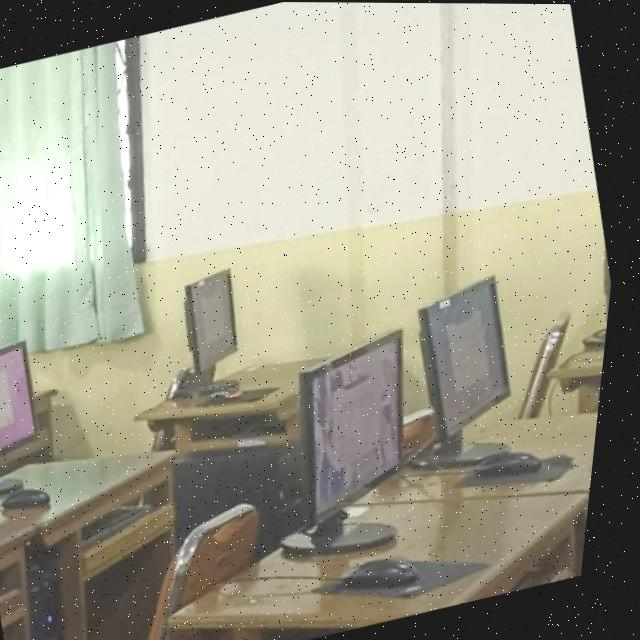onscreen: (307, 328, 410, 521), (424, 275, 519, 453), (190, 268, 245, 385), (0, 341, 44, 454)
